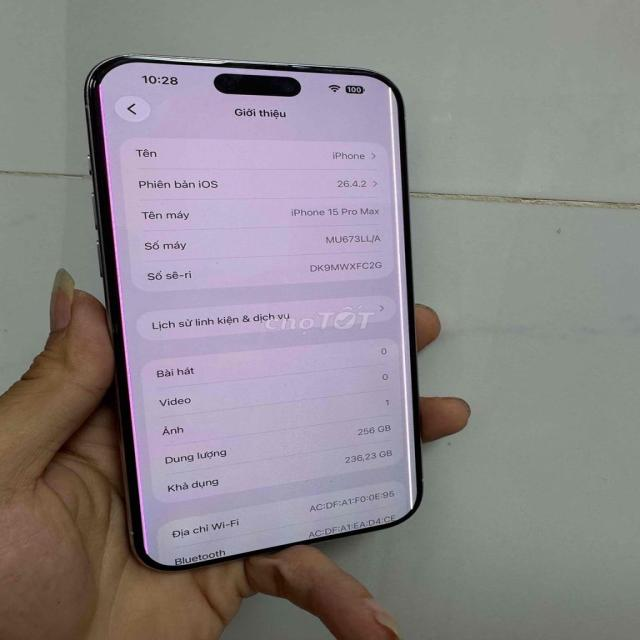gen_15: (55, 33, 467, 573)
